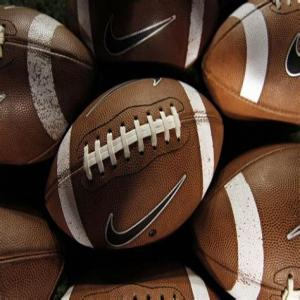Rugby: (43, 76, 225, 250), (196, 145, 300, 300), (0, 4, 96, 162), (201, 0, 299, 122), (73, 0, 219, 74), (56, 257, 219, 300), (0, 206, 63, 300)
